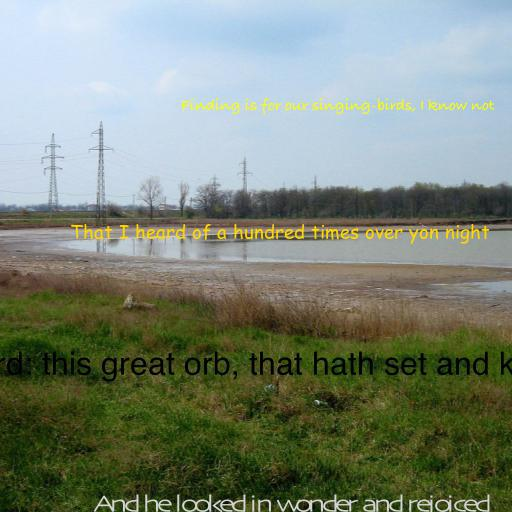Bradley Hand: (181, 98, 495, 115)
Comic Sans MS: (70, 223, 490, 244)
SignPainter: (0, 351, 512, 382)
Skia: (94, 494, 488, 512)
